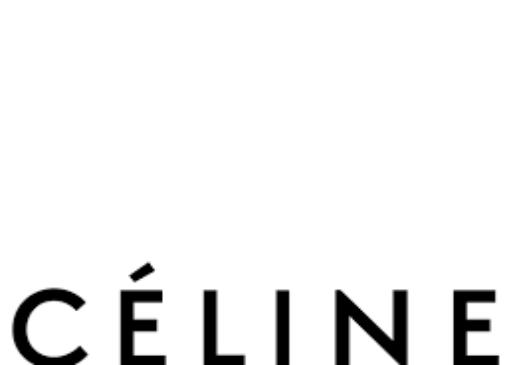CELINE: (5, 259, 499, 365)
